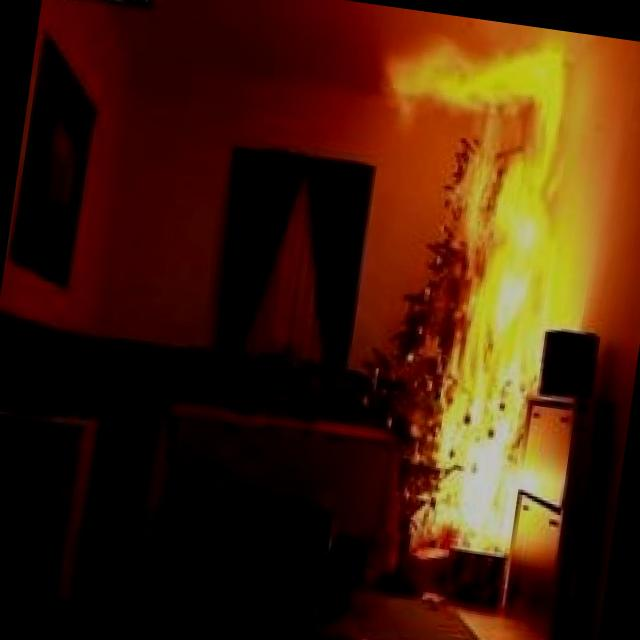fire: (302, 6, 640, 596)
